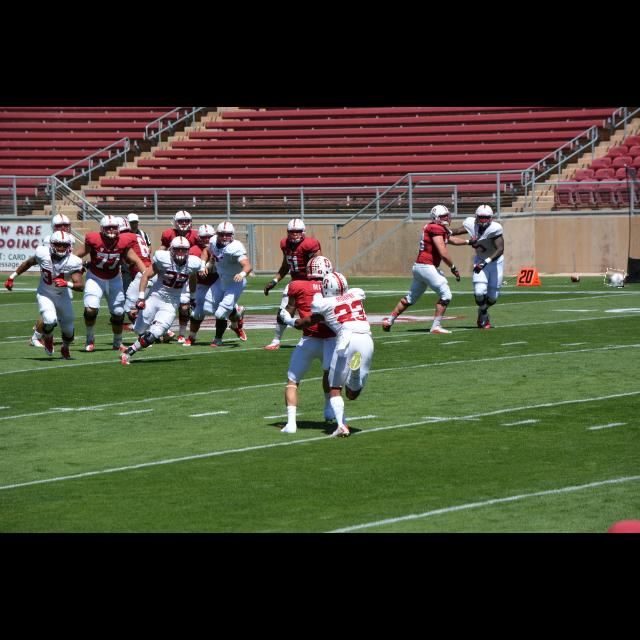Football: (606, 269, 624, 287), (571, 274, 577, 280)
